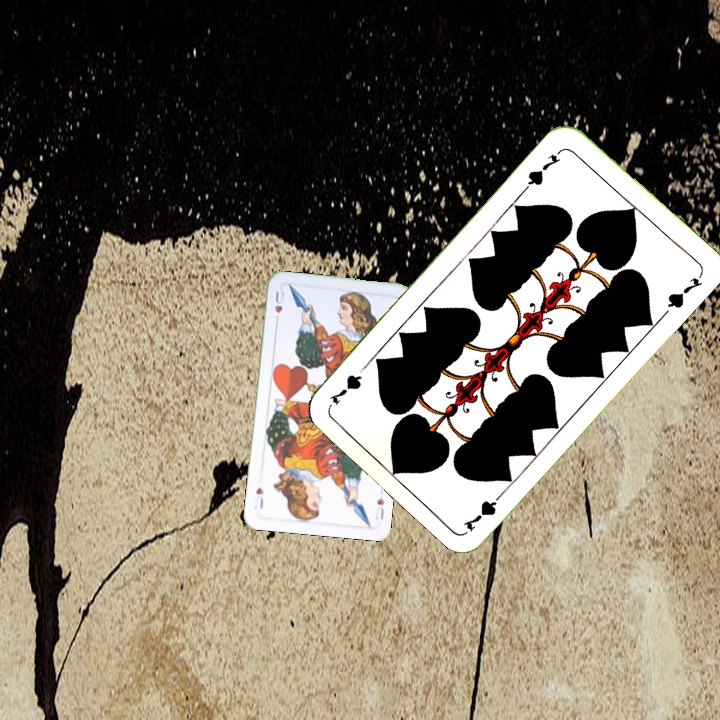G7: (459, 485, 509, 534), (521, 145, 566, 192)
HU: (271, 287, 287, 326), (371, 493, 387, 522)
